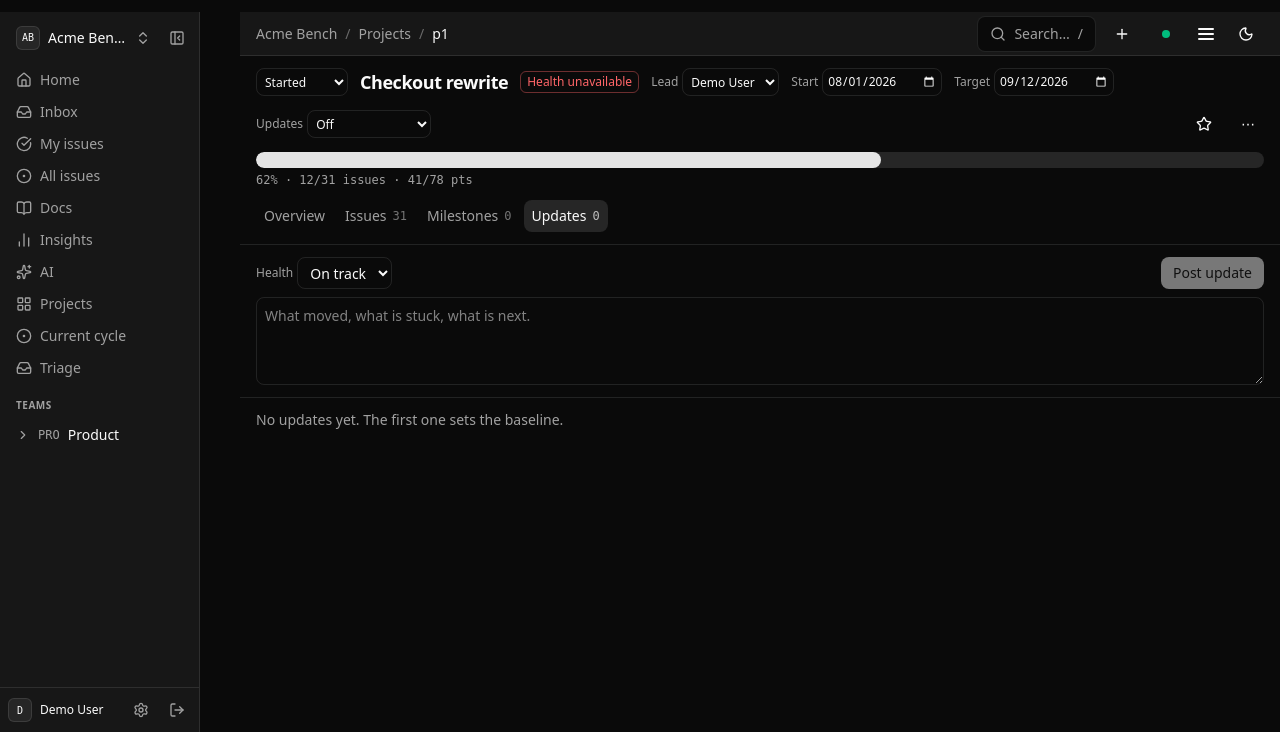
Test: project updates › says the read failed instead of reporting no updates
Step 1. Click the link "Home" → [48, 80], box [16,70,80,89]
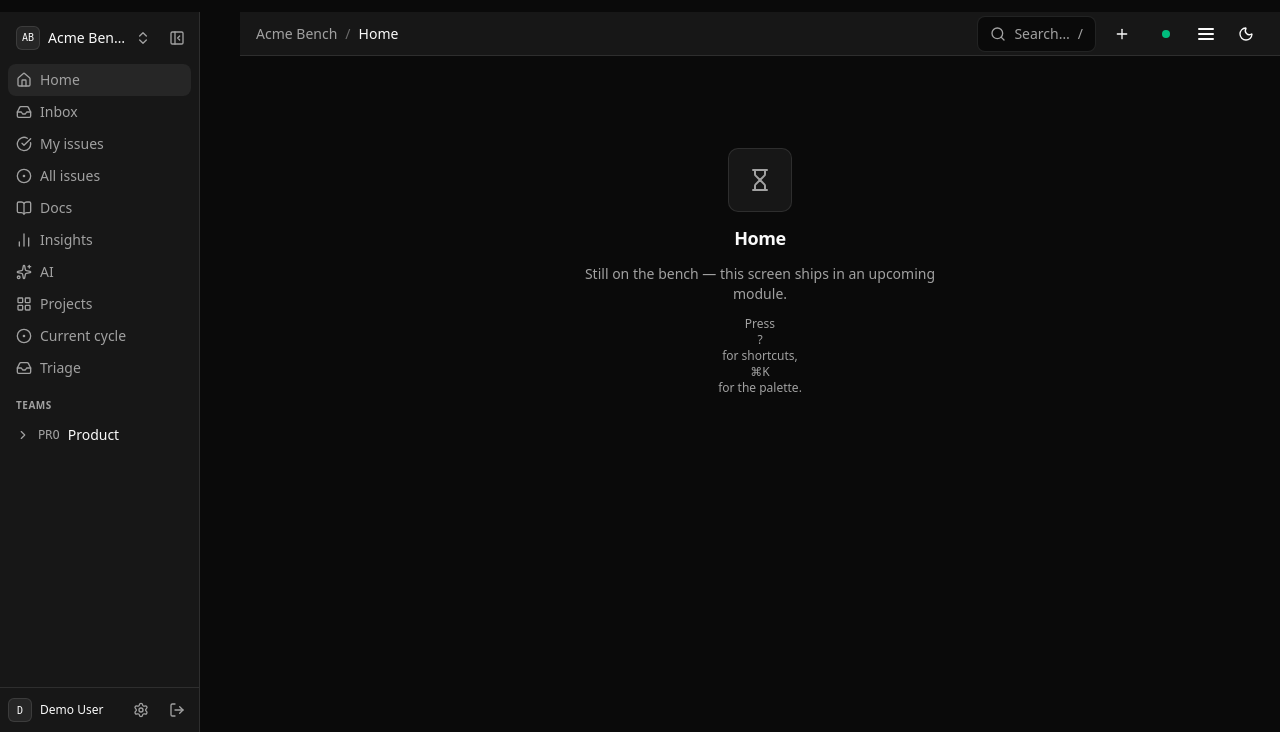
Now the heading "Home" is shown, box [734,224,786,252]
Step 2. Click the link "Projects" → [54, 304], box [16,294,92,313]
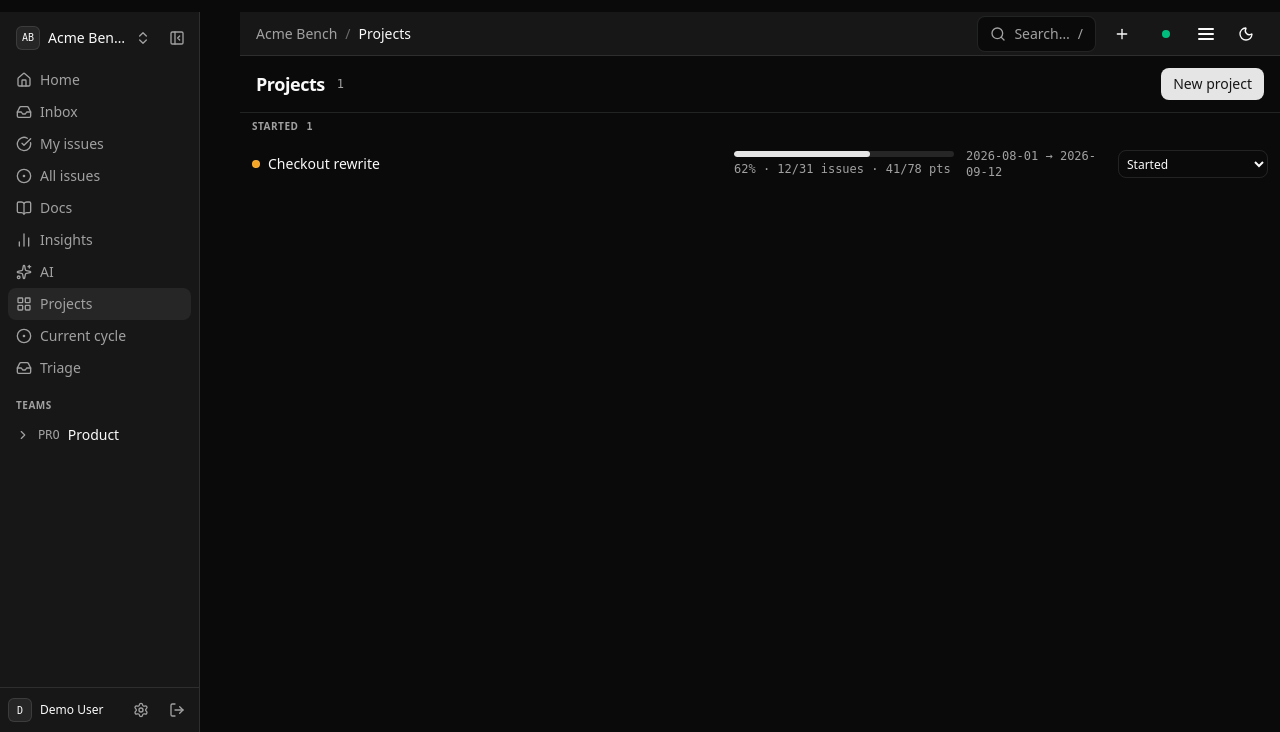
Now the heading "Projects" is shown, box [256,70,325,98]
Step 3. Click the link "Checkout rewrite" → [324, 164], box [268,154,380,174]
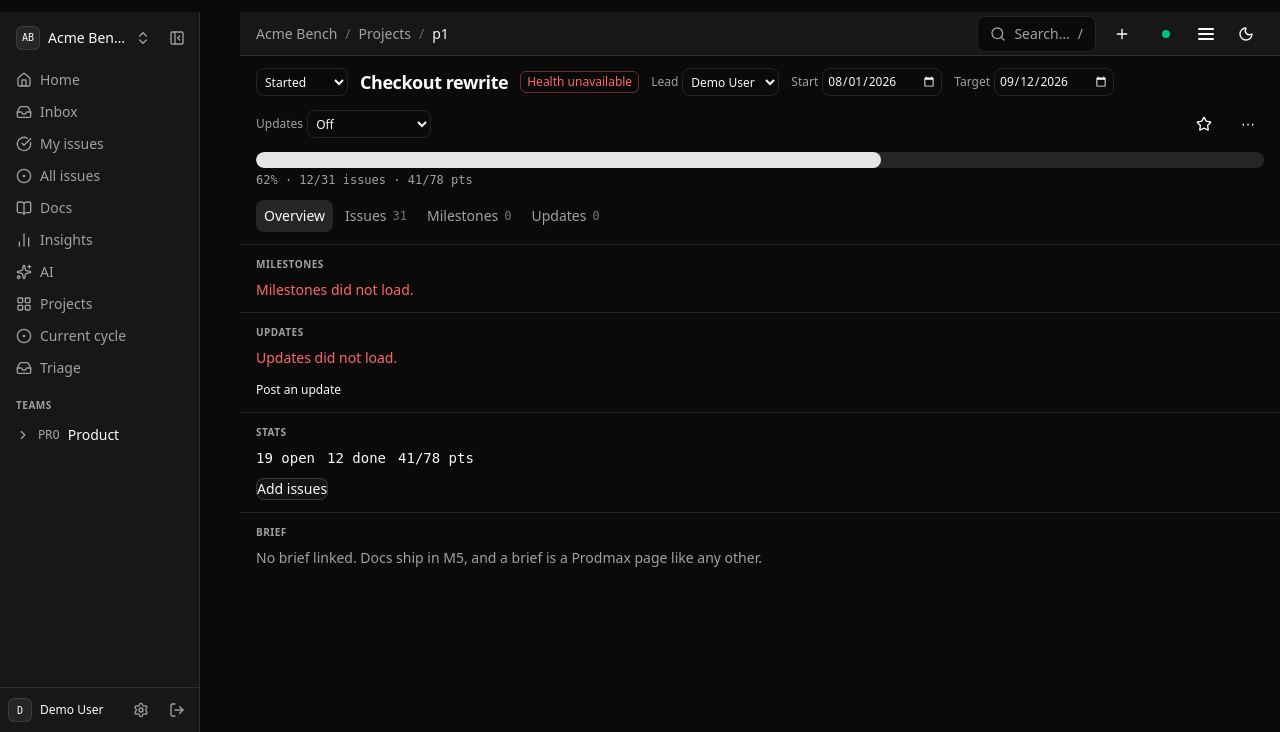
Now the text with test id "pj-health-chip" reads "Health unavailable", box [527,73,632,90]
Now the text "Updates did not load." is shown, box [256,348,397,367]
Now the text "Milestones did not load." is shown, box [256,280,414,299]
